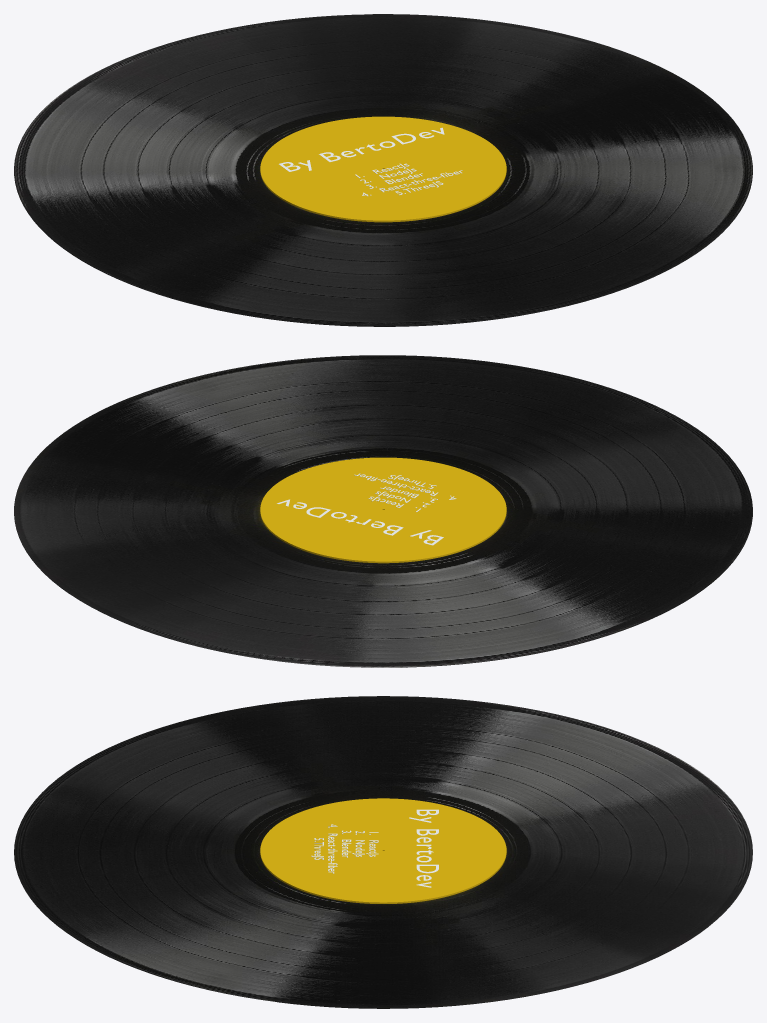
Rendered from newVinyl.glb.
3 renders of one model, top to bottom at view 1: azimuth 30°, elevation 25°; view 2: azimuth 150°, elevation 25°; view 3: azimuth 270°, elevation 25°, orthographic.
Visible parts, largest first — view 1: label.001; view 2: label.001; view 3: label.001.
Part boxes in pixels (<box>): label.001: <box>14,14,752,326</box>; label.001: <box>14,355,752,667</box>; label.001: <box>14,696,752,1008</box>.
Bounding box in the file's own units: 2.08 × 0.0223 × 2.08.
4 materials, 1 textured.
